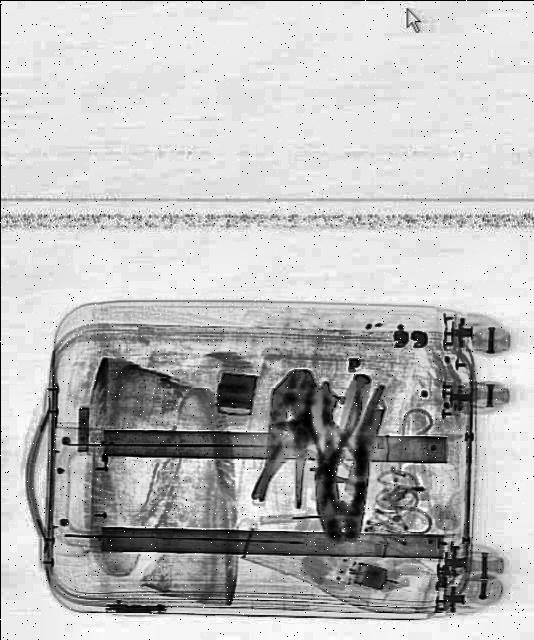Pliers: (308, 380, 384, 542), (304, 379, 363, 488)
